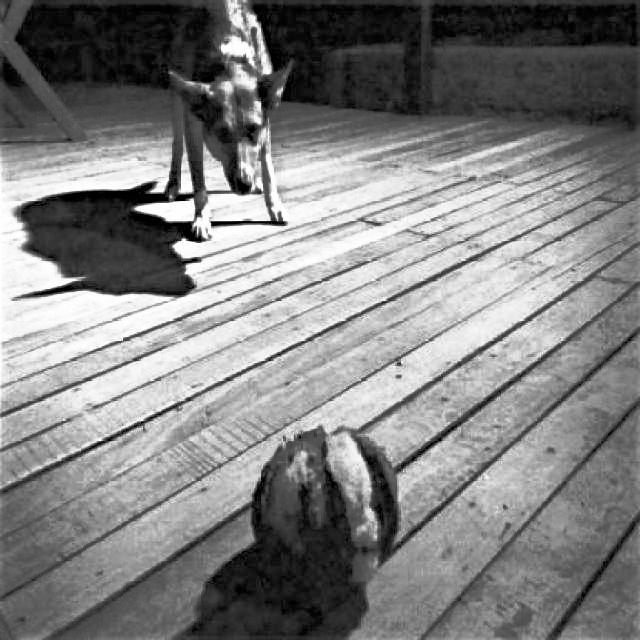Dog: (157, 0, 297, 249)
